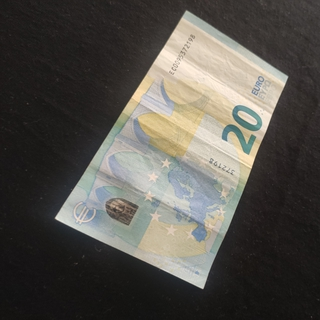20EUROBack: (54, 10, 289, 289)
